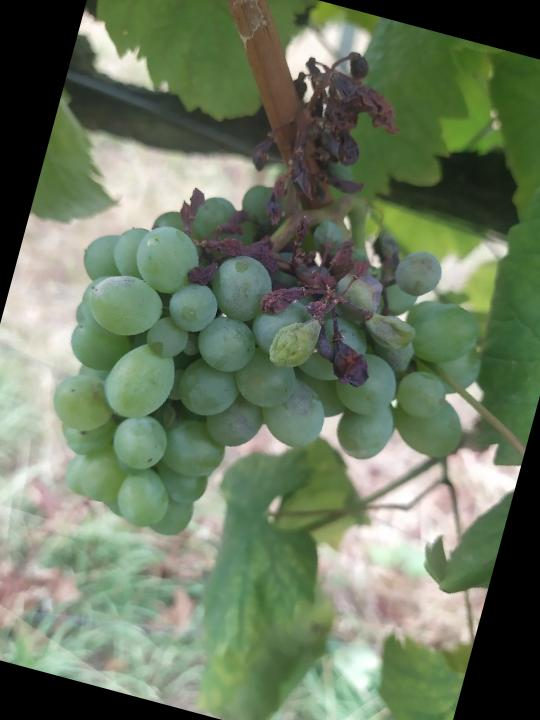grape: (15, 0, 540, 607)
